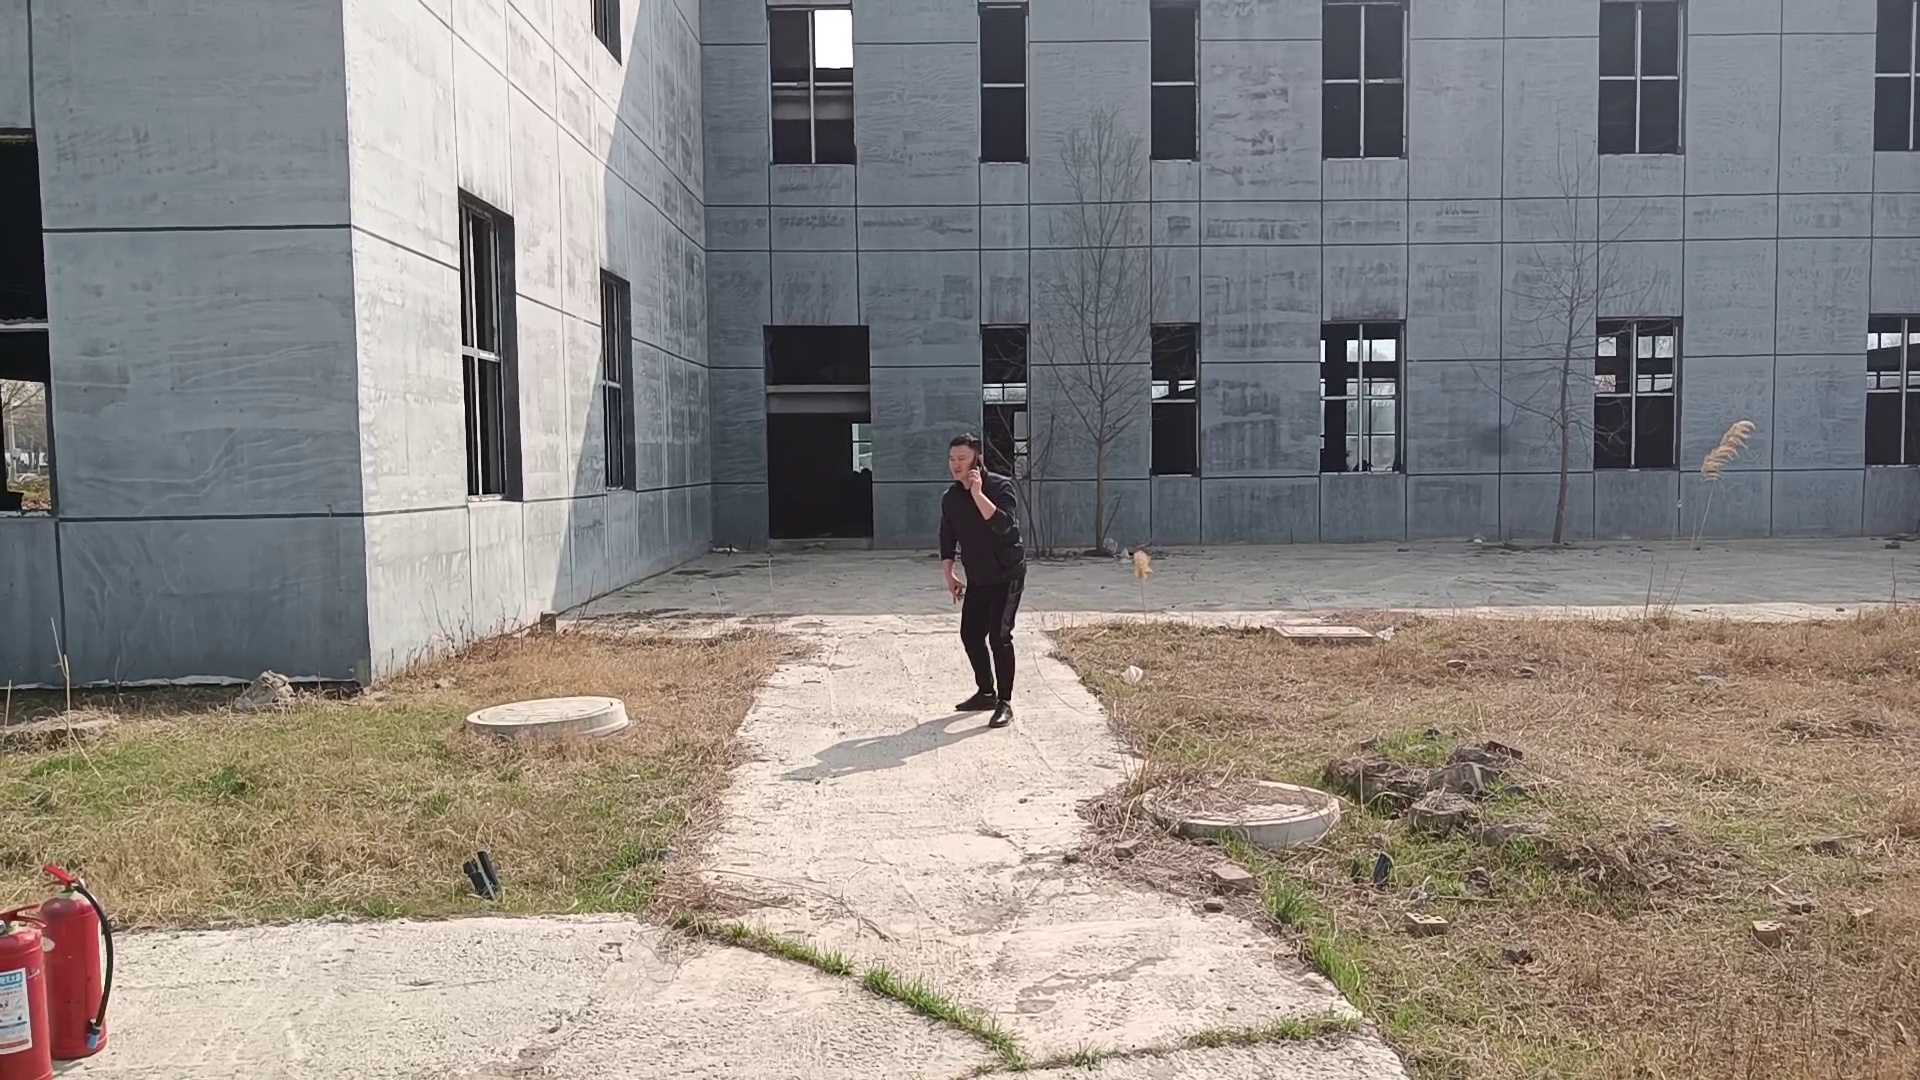phone: (938, 425, 992, 485)
